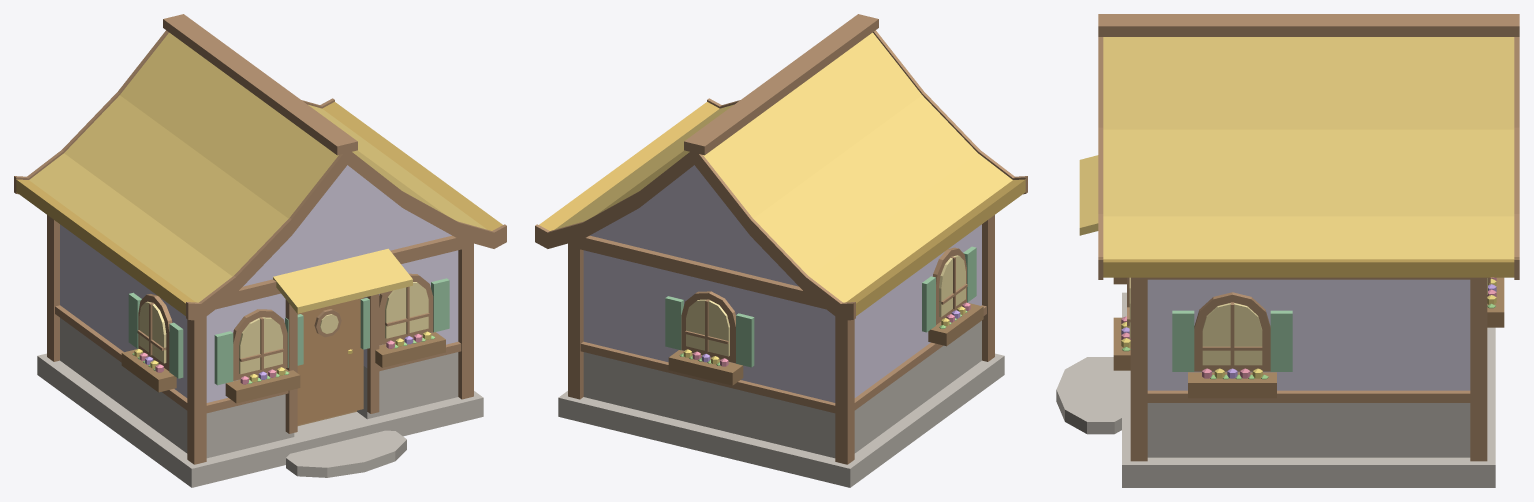
File: cottage_lilac.glb
3 renders of one model, left to right at view 1: azimuth 30°, elevation 25°; view 2: azimuth 150°, elevation 25°; view 3: azimuth 270°, elevation 25°, orthographic. The views are drawn at different scales.
Parts seen in each view (by area): view 1: Player; view 2: Player; view 3: Player.
Part boxes in pixels (x1=…): Player: x1=14, y1=14, x2=506, y2=487; Player: x1=535, y1=14, x2=1027, y2=487; Player: x1=1056, y1=14, x2=1519, y2=487.
Size of the model in its own units: 5.24 by 4.96 by 5.45.
